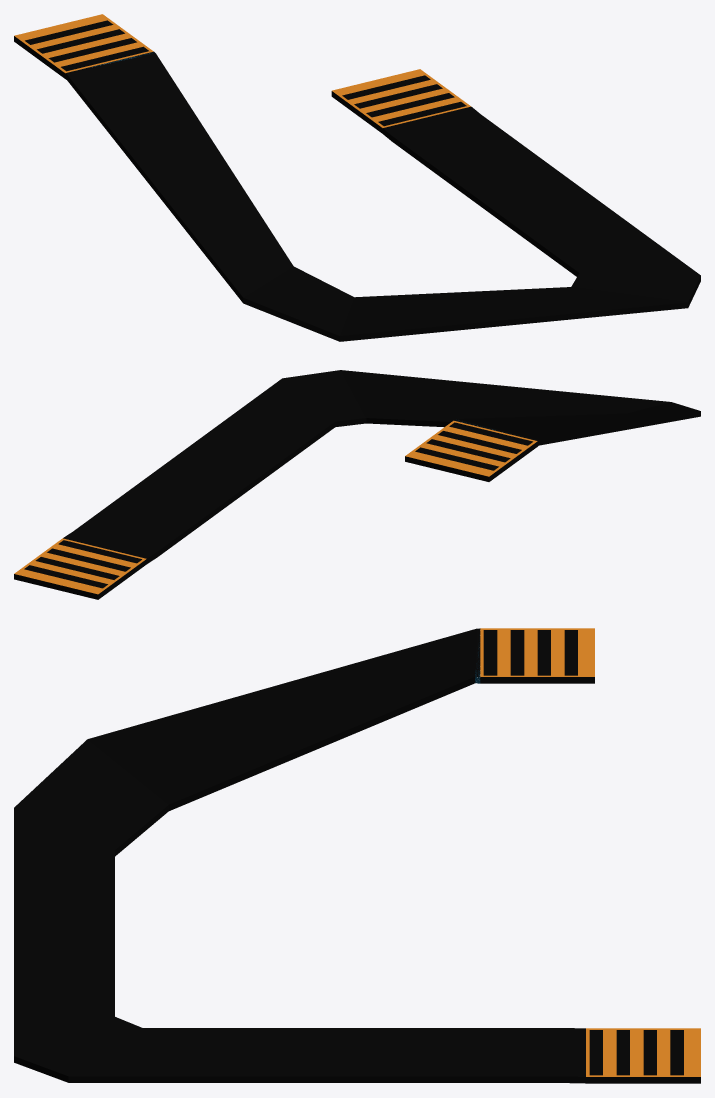
The model's file is Track02.fbx.
The picture shows the model from 3 angles, top to bottom: view 1: azimuth 30°, elevation 25°; view 2: azimuth 150°, elevation 25°; view 3: azimuth 270°, elevation 25°; orthographic projection. The views are drawn at different scales.
Parts seen in each view (by area): view 1: Track_002; view 2: Track_002; view 3: Track_002.
Part boxes in pixels (bbox=[...]): Track_002: bbox=[14, 14, 700, 341]; Track_002: bbox=[14, 370, 700, 599]; Track_002: bbox=[14, 628, 700, 1083].
Bounding box in the file's own units: 40.88 × 15.87 × 47.8.
